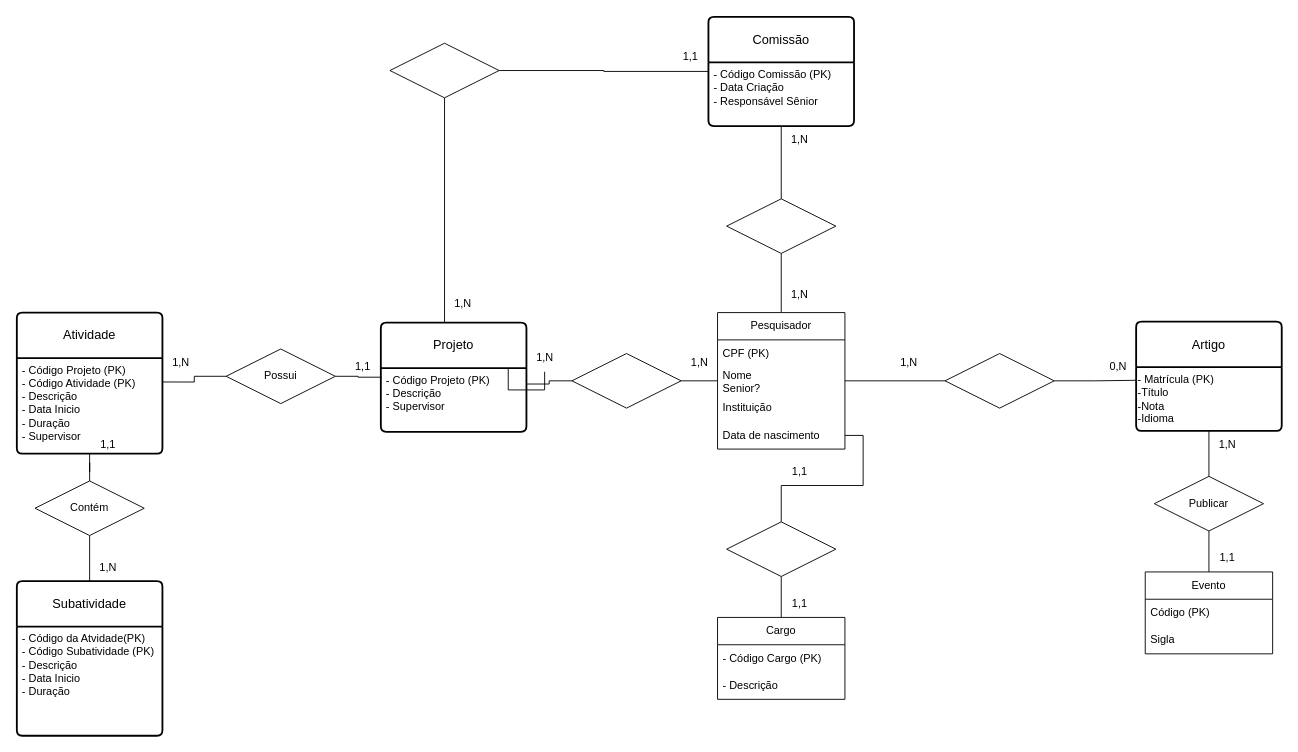
Image size: 1298x752. Some labels were removed from this diagram. Each missing label, with the box of its shape:
Aprovar: (389, 42, 499, 98)
Assumir: (726, 521, 836, 576)
Compor: (726, 198, 836, 253)
Escrever: (944, 353, 1054, 408)
Realiza: (571, 353, 681, 408)
